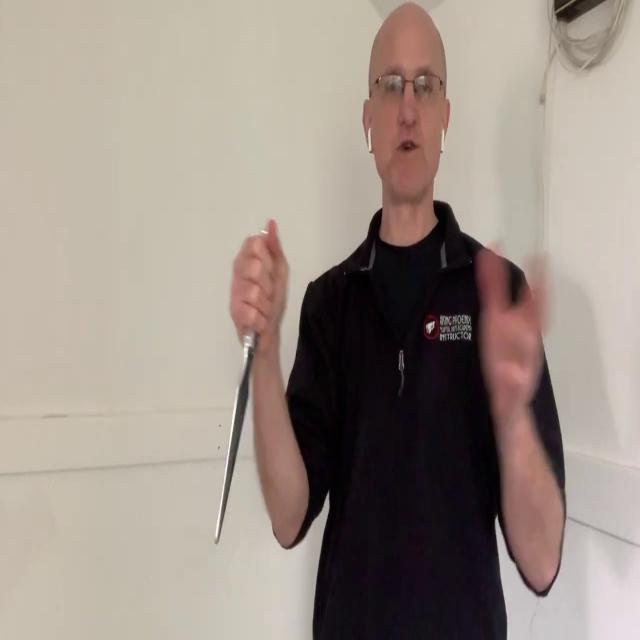Knife_Handle: (214, 218, 290, 544)
